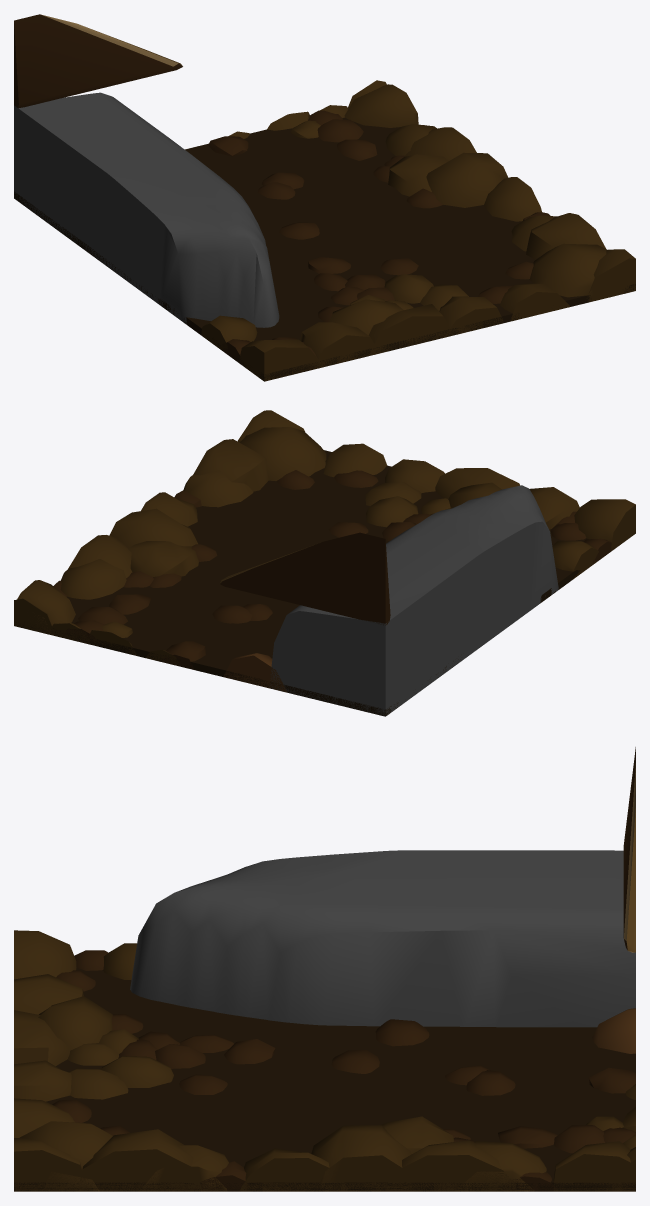
Rendered from gold_pyramid_br.glb.
3 views of the same model, one above another, from view 1: azimuth 30°, elevation 25°; view 2: azimuth 150°, elevation 25°; view 3: azimuth 270°, elevation 25° (orthographic). The views are drawn at different scales.
Visible parts, largest first — view 1: housing, dirt_base, pyramid, dirt_31, dirt_18, dirt_133, dirt_22, dirt_8, dirt_62, dirt_44, dirt_39, dirt_53 (+16 smaller); view 2: housing, dirt_base, pyramid, dirt_18, dirt_22, dirt_44, dirt_31, dirt_15, dirt_5, dirt_6, dirt_7, dirt_62 (+23 smaller); view 3: housing, dirt_base, dirt_44, dirt_31, dirt_45, dirt_62, dirt_53, dirt_18, dirt_39, dirt_12, dirt_6, dirt_5 (+24 smaller).
Boxes of the visible parts, x1=… form: housing: x1=14, y1=92, x2=279, y2=327; dirt_base: x1=14, y1=117, x2=635, y2=381; pyramid: x1=14, y1=14, x2=182, y2=108; dirt_31: x1=426, y1=152, x2=508, y2=207; dirt_18: x1=529, y1=243, x2=611, y2=298; dirt_133: x1=368, y1=304, x2=449, y2=356; dirt_22: x1=239, y1=339, x2=324, y2=381; dirt_8: x1=300, y1=322, x2=379, y2=369; dirt_62: x1=344, y1=84, x2=418, y2=127; dirt_44: x1=526, y1=213, x2=605, y2=259; dirt_39: x1=588, y1=249, x2=635, y2=302; dirt_53: x1=484, y1=177, x2=541, y2=221; housing: x1=269, y1=485, x2=558, y2=716; dirt_base: x1=14, y1=450, x2=635, y2=716; pyramid: x1=220, y1=532, x2=390, y2=625; dirt_18: x1=240, y1=427, x2=326, y2=480; dirt_22: x1=574, y1=499, x2=635, y2=550; dirt_44: x1=193, y1=439, x2=268, y2=491; dirt_31: x1=109, y1=508, x2=197, y2=548; dirt_15: x1=128, y1=541, x2=198, y2=576; dirt_5: x1=60, y1=559, x2=126, y2=599; dirt_6: x1=183, y1=470, x2=253, y2=507; dirt_7: x1=323, y1=443, x2=387, y2=477; dirt_62: x1=17, y1=580, x2=75, y2=634; housing: x1=130, y1=850, x2=635, y2=1027; dirt_base: x1=14, y1=968, x2=635, y2=1191; dirt_44: x1=79, y1=1129, x2=202, y2=1191; dirt_31: x1=311, y1=1125, x2=412, y2=1191; dirt_45: x1=385, y1=1140, x2=517, y2=1191; dirt_62: x1=553, y1=1141, x2=635, y2=1191; dirt_53: x1=239, y1=1148, x2=348, y2=1191; dirt_18: x1=19, y1=1121, x2=112, y2=1191; dirt_39: x1=14, y1=1138, x2=86, y2=1191; dirt_12: x1=38, y1=996, x2=112, y2=1050; dirt_6: x1=139, y1=1145, x2=228, y2=1191; dirt_5: x1=455, y1=1141, x2=546, y2=1191.
Size of the model in its own units: 24 by 10.98 by 28.
